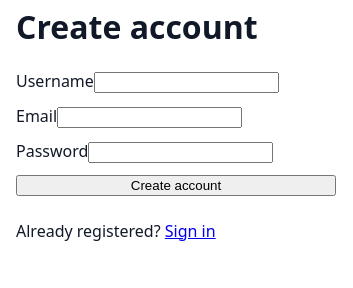
Register › should_show_backend_error_when_username_or_email_already_taken
This screenshot has width=353, height=288.
Type "taken" into the field labelled "Username" at (186, 82), box x1=94 y1=72 x2=279 y2=93
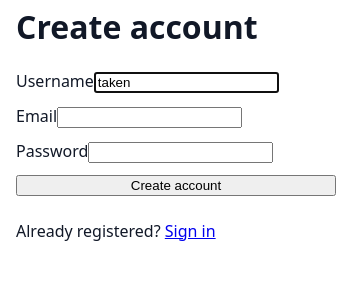
Type "taken@example.com" into the field labelled "Email" at (150, 117), box x1=57 y1=107 x2=242 y2=128
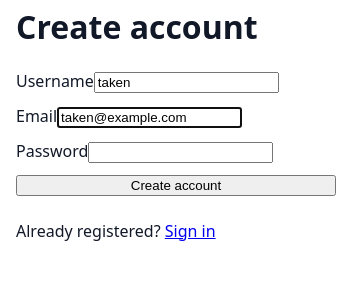
Type "password123" into the password field labelled "Password" at (181, 152), box x1=88 y1=142 x2=273 y2=163
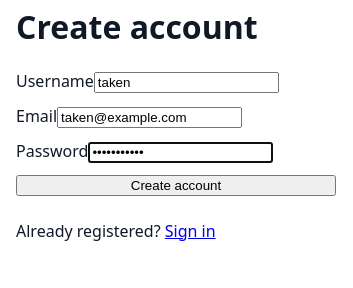
Click the button "Create account" at (176, 185), box x1=16 y1=175 x2=336 y2=196
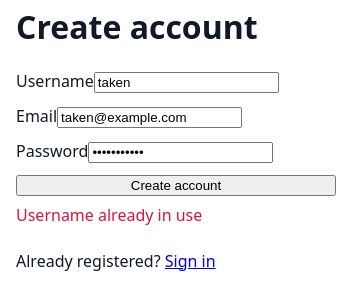
expect the message reads "Username already in use": met, box x1=16 y1=204 x2=202 y2=226
